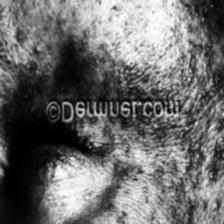Non-Cancerous Skin Condition: (106, 0, 178, 92), (54, 41, 86, 94)
